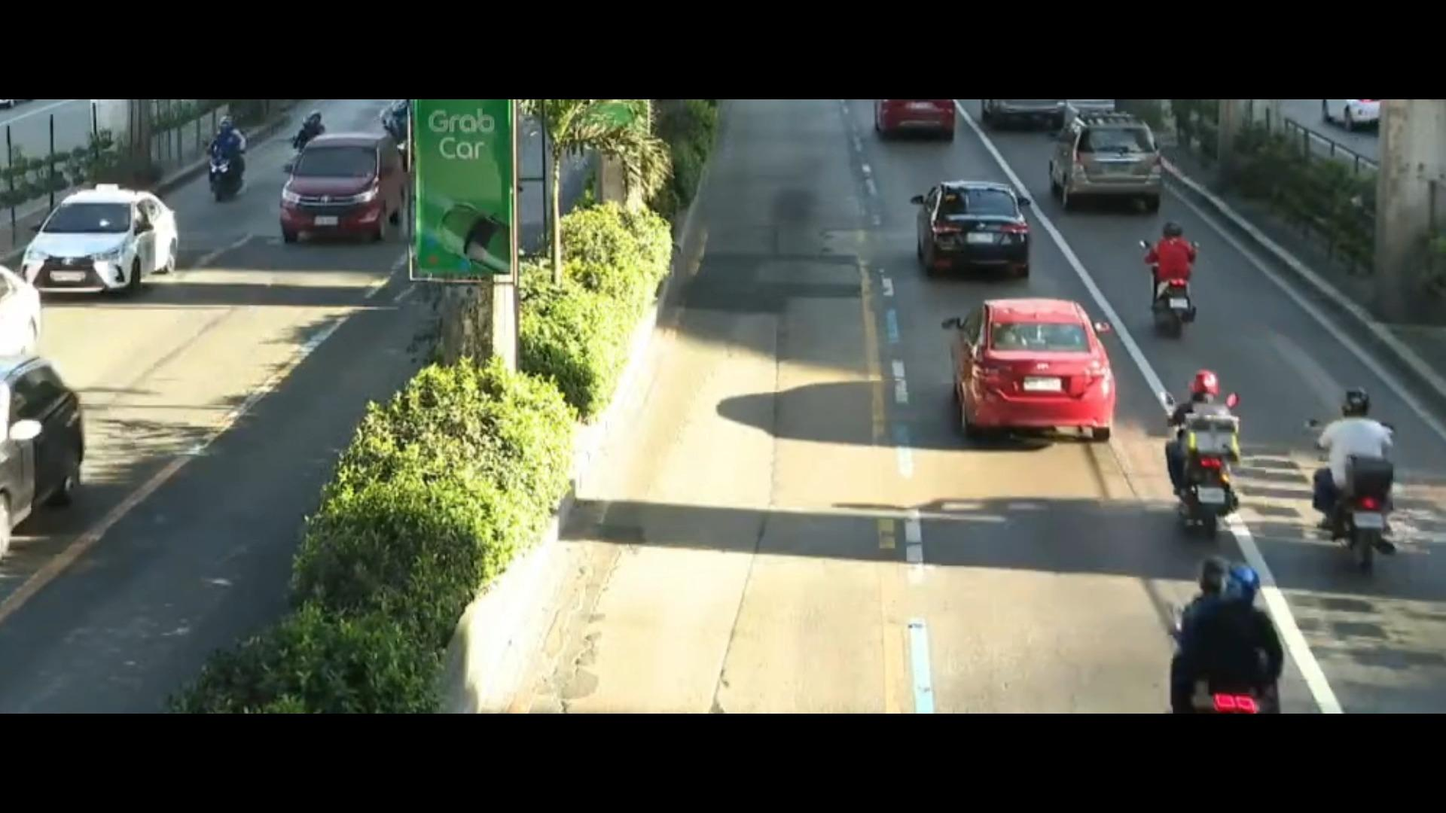Motorcycle: (1145, 548, 1299, 706), (1141, 367, 1266, 544), (1301, 387, 1396, 578), (1117, 226, 1223, 343), (193, 106, 274, 212)
SUV: (259, 118, 407, 261), (1053, 106, 1158, 218)
Sedan: (919, 294, 1120, 452), (29, 171, 191, 298), (0, 354, 96, 538), (911, 169, 1027, 284)
